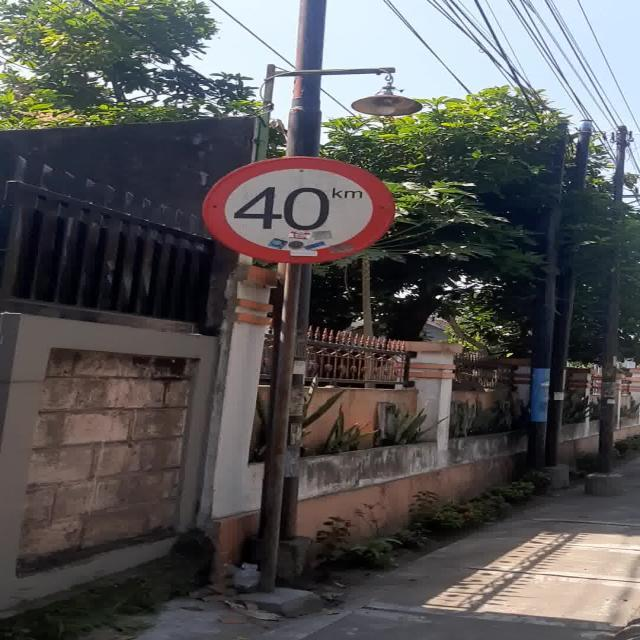Kecepatan Maks. 40 km: (202, 156, 398, 264)
